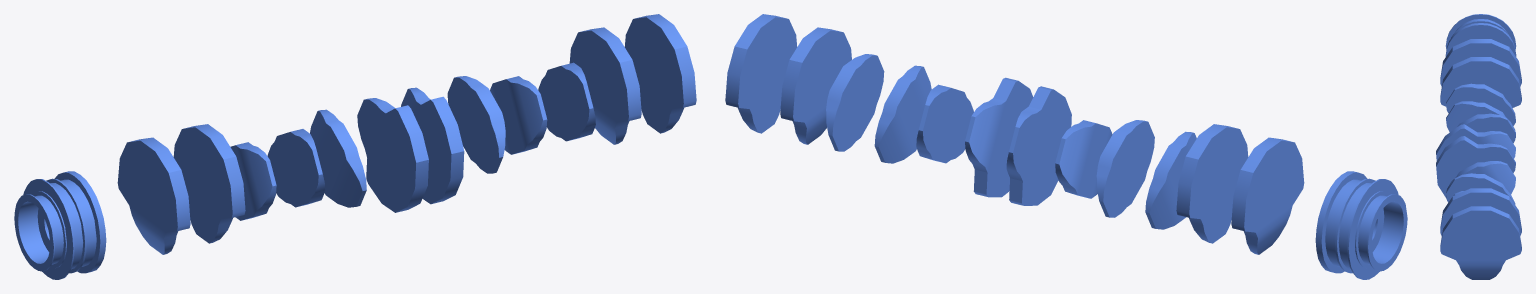
The picture shows the model from 3 angles, left to right: view 1: azimuth 30°, elevation 25°; view 2: azimuth 150°, elevation 25°; view 3: azimuth 270°, elevation 25°; orthographic projection. The views are drawn at different scales.
Visible parts, largest first — view 1: rb26_stock_reference.001_rb26_stock_reference.001_rb26_stoc.002; view 2: rb26_stock_reference.001_rb26_stock_reference.001_rb26_stoc.002; view 3: rb26_stock_reference.001_rb26_stock_reference.001_rb26_stoc.002.
Boxes of the visible parts, left/top/right/bottom form: rb26_stock_reference.001_rb26_stock_reference.001_rb26_stoc.002: left=14, top=14, right=696, bottom=279; rb26_stock_reference.001_rb26_stock_reference.001_rb26_stoc.002: left=725, top=14, right=1407, bottom=279; rb26_stock_reference.001_rb26_stock_reference.001_rb26_stoc.002: left=1436, top=14, right=1521, bottom=279.
Bounding box in the file's own units: 40.23 × 7.06 × 6.96.
